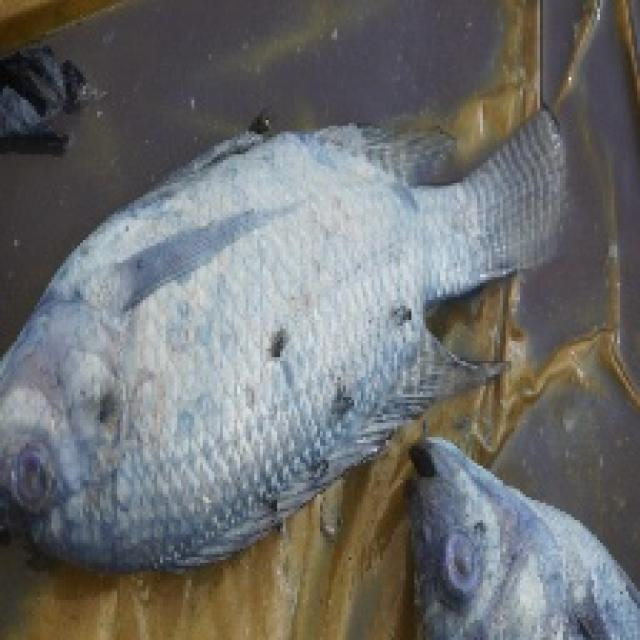Non-Fresh: (90, 212, 386, 479), (1, 439, 80, 518), (428, 520, 498, 595)
